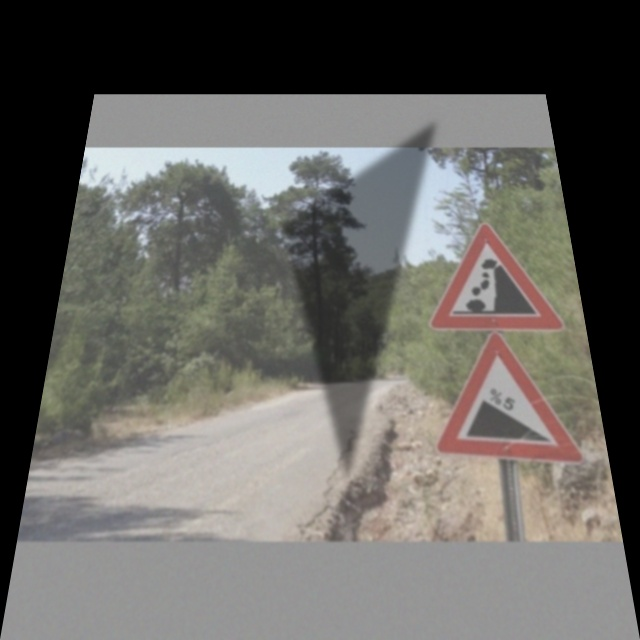Falling_Rocks: (427, 220, 560, 328)
